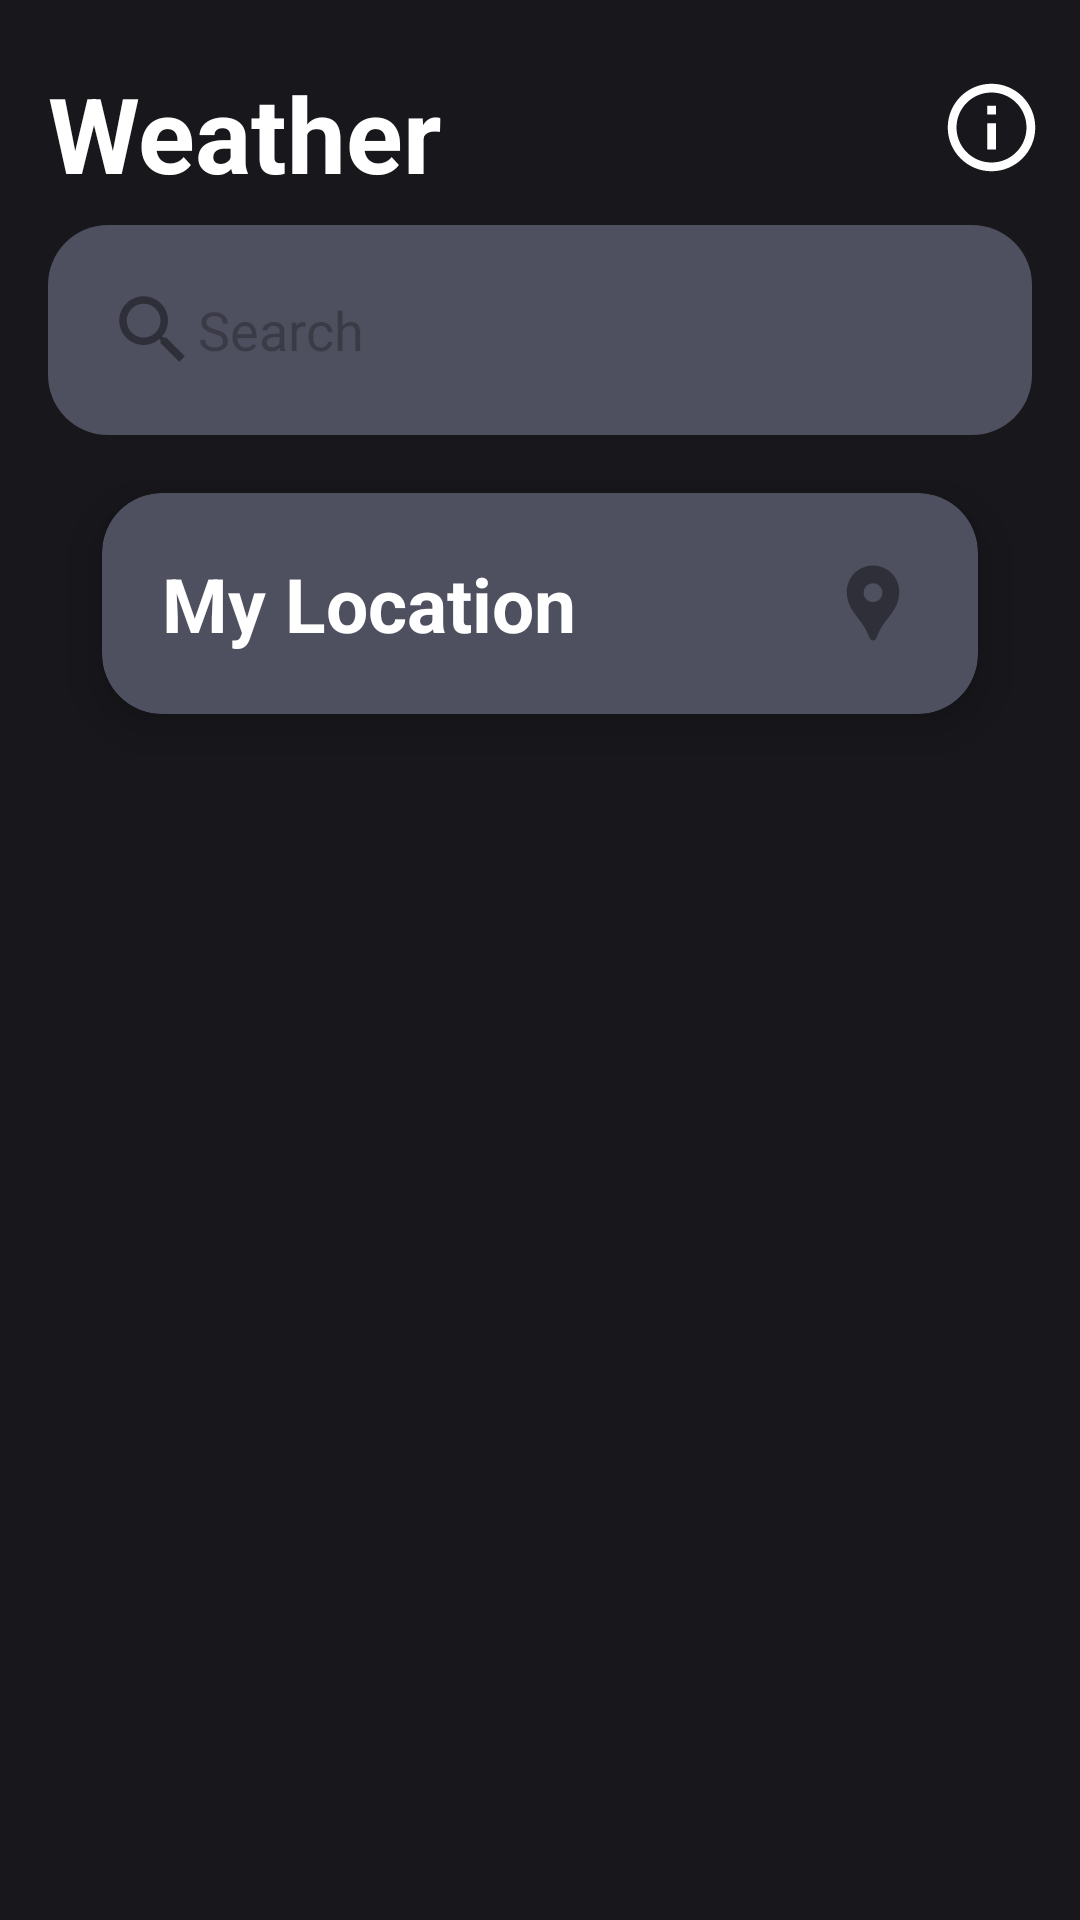

Icons on this 1080px×1920px Android screen, each with the point to tap as [x,y]:
info: [991,127]
